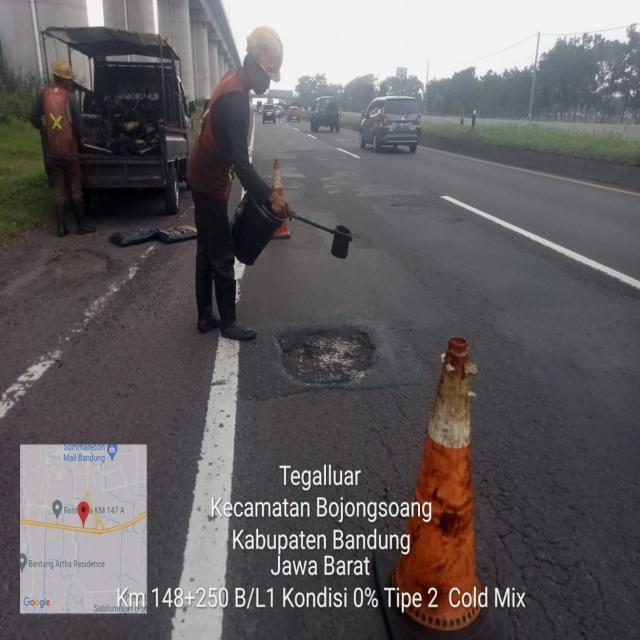Buraco: (268, 324, 380, 390)
